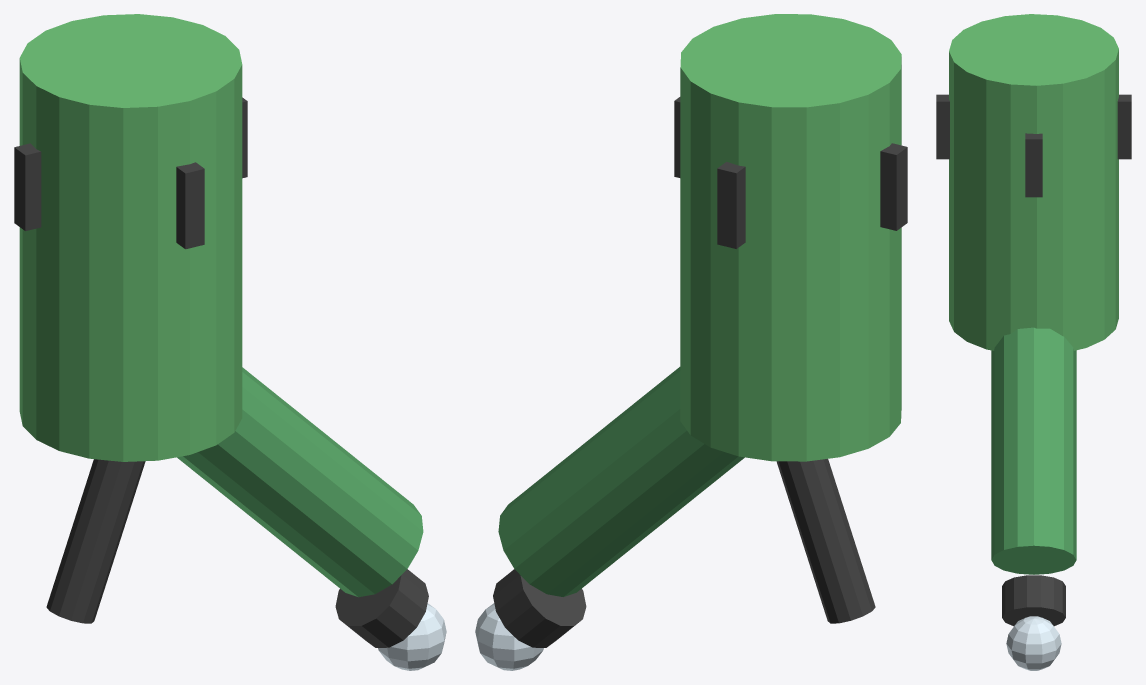
File: leaf_blower.fbx
The picture shows the model from 3 angles, left to right: view 1: azimuth 30°, elevation 25°; view 2: azimuth 150°, elevation 25°; view 3: azimuth 270°, elevation 25°; orthographic projection. The views are drawn at different scales.
Visible parts, largest first — view 1: LB_Engine, LB_Nozzle, LB_Handle, LB_Tip, LB_Vent3, LB_Wind, LB_Vent2; view 2: LB_Engine, LB_Nozzle, LB_Handle, LB_Tip, LB_Vent1, LB_Wind, LB_Vent2; view 3: LB_Engine, LB_Nozzle, LB_Tip, LB_Wind, LB_Vent0, LB_Vent1, LB_Vent3.
Boxes of the visible parts, <box> form: LB_Engine: <box>19,14,242,461</box>; LB_Nozzle: <box>177,367,423,597</box>; LB_Handle: <box>46,459,145,623</box>; LB_Tip: <box>335,569,428,647</box>; LB_Vent3: <box>176,162,204,249</box>; LB_Wind: <box>378,603,446,670</box>; LB_Vent2: <box>14,143,41,231</box>; LB_Engine: <box>680,14,901,461</box>; LB_Nozzle: <box>498,367,744,596</box>; LB_Handle: <box>776,459,875,623</box>; LB_Tip: <box>493,569,586,647</box>; LB_Vent1: <box>717,162,745,248</box>; LB_Wind: <box>475,603,543,670</box>; LB_Vent2: <box>880,143,907,230</box>; LB_Engine: <box>949,14,1118,350</box>; LB_Nozzle: <box>991,327,1076,574</box>; LB_Tip: <box>1002,575,1065,626</box>; LB_Wind: <box>1006,616,1061,670</box>; LB_Vent0: <box>1025,133,1042,197</box>; LB_Vent1: <box>1117,94,1131,159</box>; LB_Vent3: <box>936,94,949,159</box>.
Size of the model in its own units: 0.8718 by 1.34 by 0.46.
